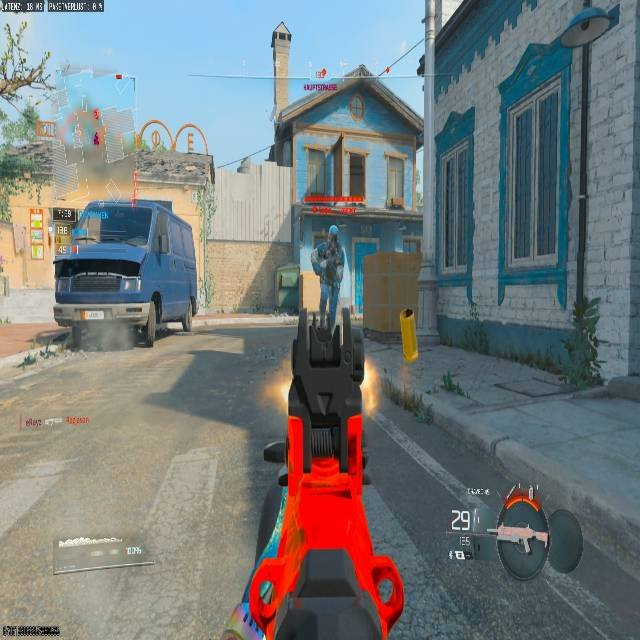head: (322, 221, 340, 241)
player: (310, 224, 349, 319)
